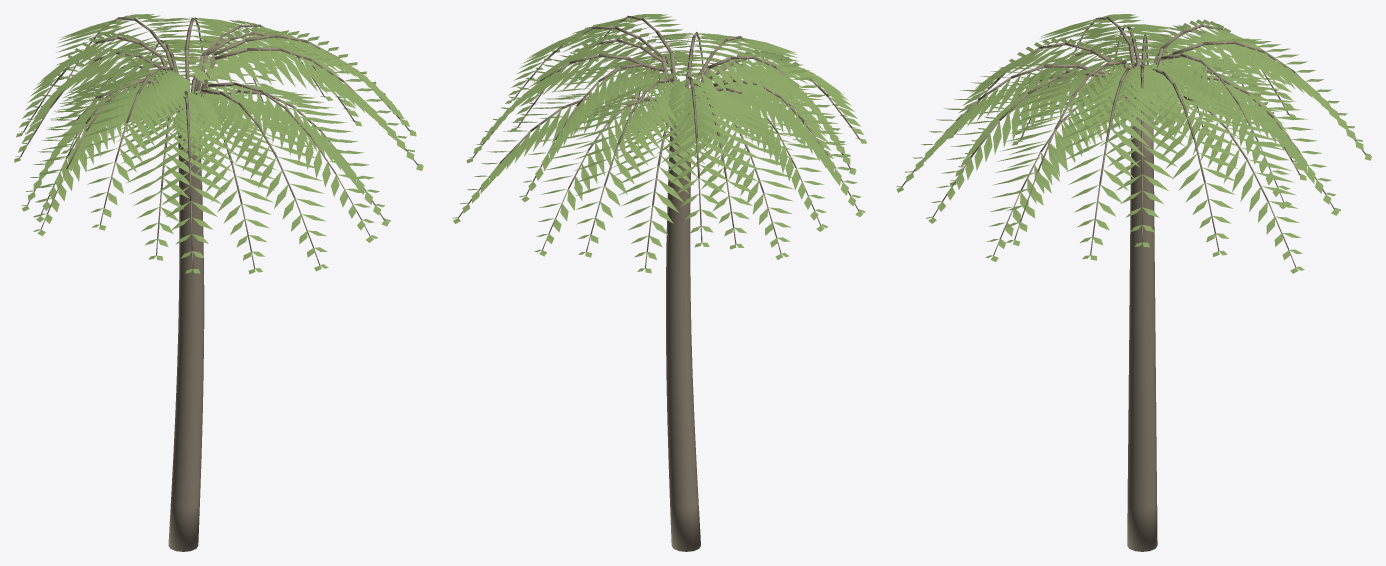
Rendered from palm.glb.
3 views of the same model, side by side, from view 1: azimuth 30°, elevation 25°; view 2: azimuth 150°, elevation 25°; view 3: azimuth 270°, elevation 25° (orthographic). The views are drawn at different scales.
Parts seen in each view (by area): view 1: palm_landscape_frond, palm_landscape_bark; view 2: palm_landscape_frond, palm_landscape_bark; view 3: palm_landscape_frond, palm_landscape_bark.
Boxes of the visible parts, left/top/right/bottom form: palm_landscape_frond: left=14, top=14, right=423, bottom=274; palm_landscape_bark: left=20, top=17, right=417, bottom=551; palm_landscape_frond: left=452, top=14, right=867, bottom=273; palm_landscape_bark: left=458, top=16, right=859, bottom=551; palm_landscape_frond: left=896, top=14, right=1371, bottom=273; palm_landscape_bark: left=902, top=16, right=1365, bottom=551.
Size of the model in its own units: 6.28 by 8.1 by 6.9.
